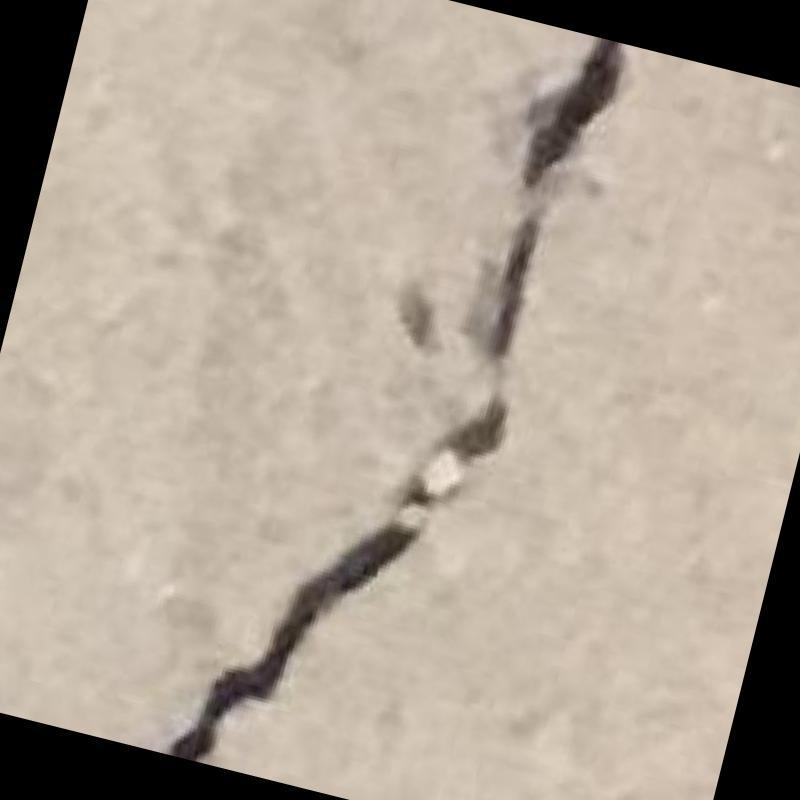crack: (165, 37, 624, 761)
